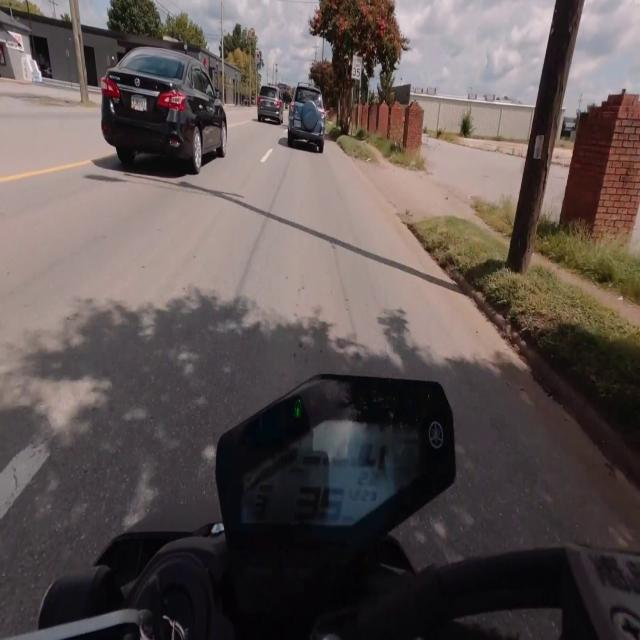car: (101, 47, 227, 173), (288, 83, 325, 152), (257, 85, 283, 124)
motorcycle: (23, 376, 639, 639)
